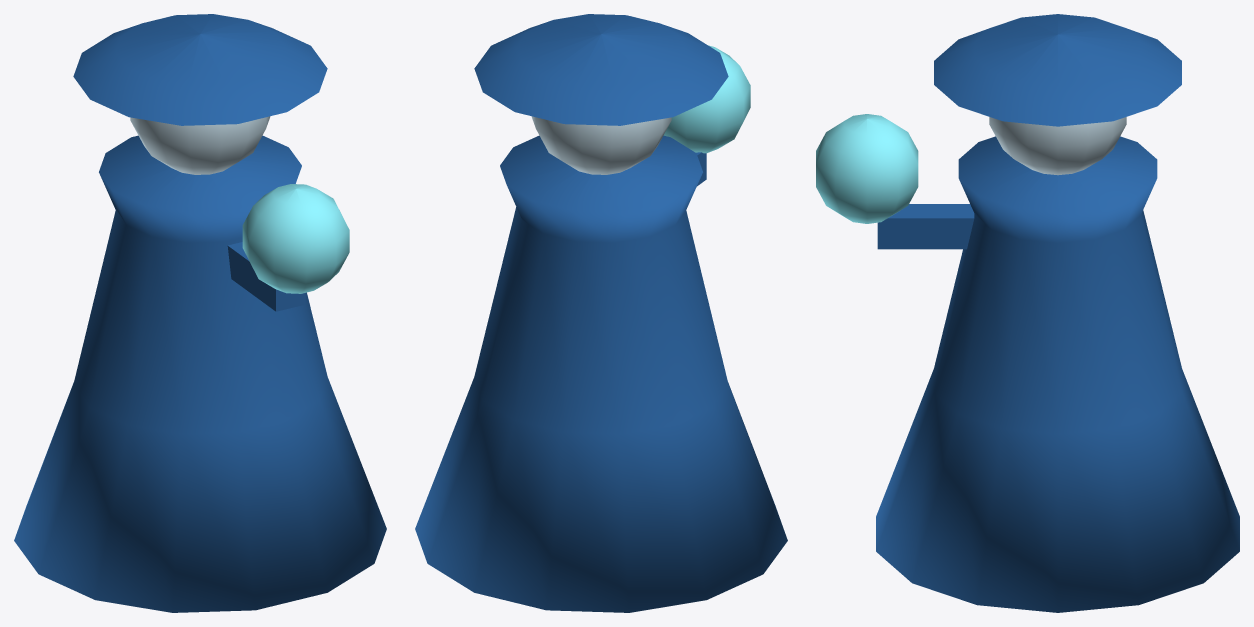
The model's file is tidewater_stormcaller.obj.
The picture shows the model from 3 angles, left to right: view 1: azimuth 30°, elevation 25°; view 2: azimuth 150°, elevation 25°; view 3: azimuth 270°, elevation 25°; orthographic projection.
Bounding box in the file's own units: 0.88 × 1.3 × 0.9995.
